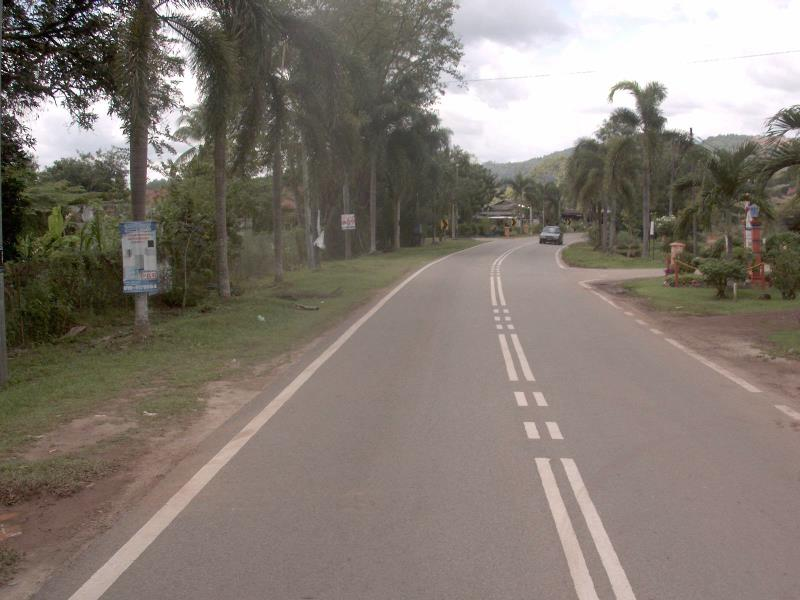ads_sign: (113, 210, 169, 304)
